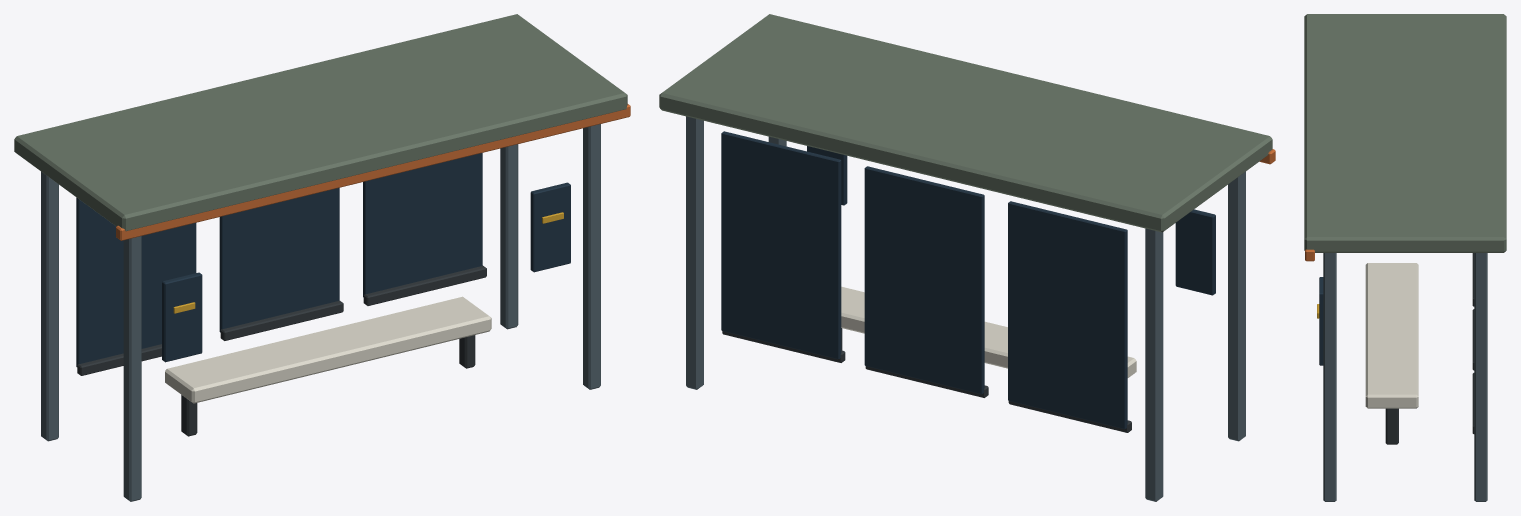
The model's file is PRP_CITY_006_bus_shelter.glb.
3 renders of one model, left to right at view 1: azimuth 30°, elevation 25°; view 2: azimuth 150°, elevation 25°; view 3: azimuth 270°, elevation 25°, orthographic. The views are drawn at different scales.
Parts seen in each view (by area): view 1: PRP_CITY_006_bus_shelter_RenderMesh; view 2: PRP_CITY_006_bus_shelter_RenderMesh; view 3: PRP_CITY_006_bus_shelter_RenderMesh.
Boxes of the visible parts, bbox=[...] form: PRP_CITY_006_bus_shelter_RenderMesh: bbox=[14, 14, 630, 501]; PRP_CITY_006_bus_shelter_RenderMesh: bbox=[659, 14, 1275, 501]; PRP_CITY_006_bus_shelter_RenderMesh: bbox=[1304, 14, 1506, 501].
Size of the model in its own units: 4.85 by 2.71 by 1.82.
